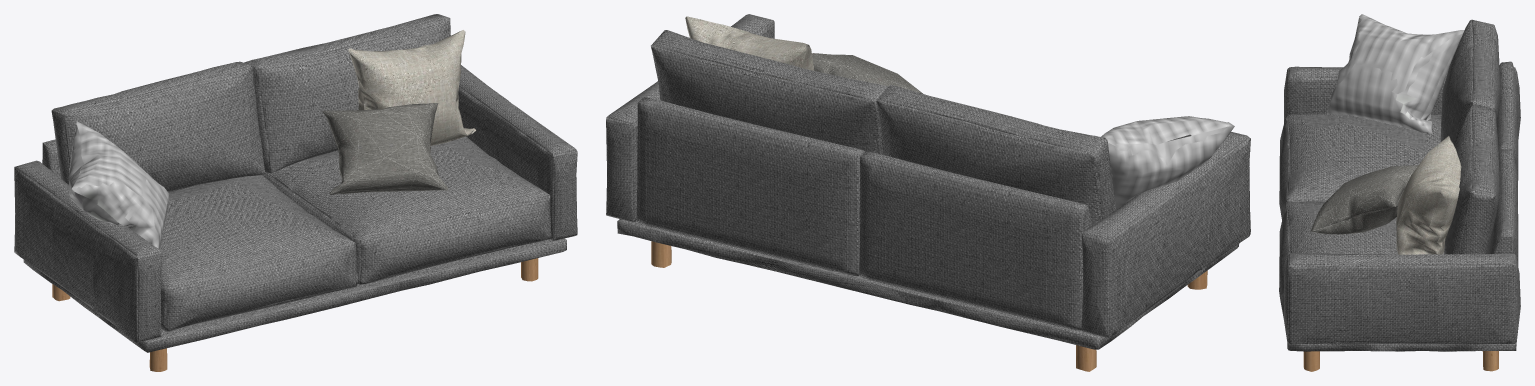
File: SM_双人沙发_160cm.gltf
3 renders of one model, left to right at view 1: azimuth 30°, elevation 25°; view 2: azimuth 150°, elevation 25°; view 3: azimuth 270°, elevation 25°, orthographic. The views are drawn at different scales.
Parts seen in each view (by area): view 1: SM_双人沙发_160cm_StaticMeshComponent0; view 2: SM_双人沙发_160cm_StaticMeshComponent0; view 3: SM_双人沙发_160cm_StaticMeshComponent0.
Boxes of the visible parts, x1,y1,x2,y2 form: SM_双人沙发_160cm_StaticMeshComponent0: (14, 14, 577, 371); SM_双人沙发_160cm_StaticMeshComponent0: (606, 14, 1250, 371); SM_双人沙发_160cm_StaticMeshComponent0: (1279, 14, 1520, 371).
Bounding box in the file's own units: 190 × 77.4 × 91.66.
Materials: 5 (5 with a texture image).
